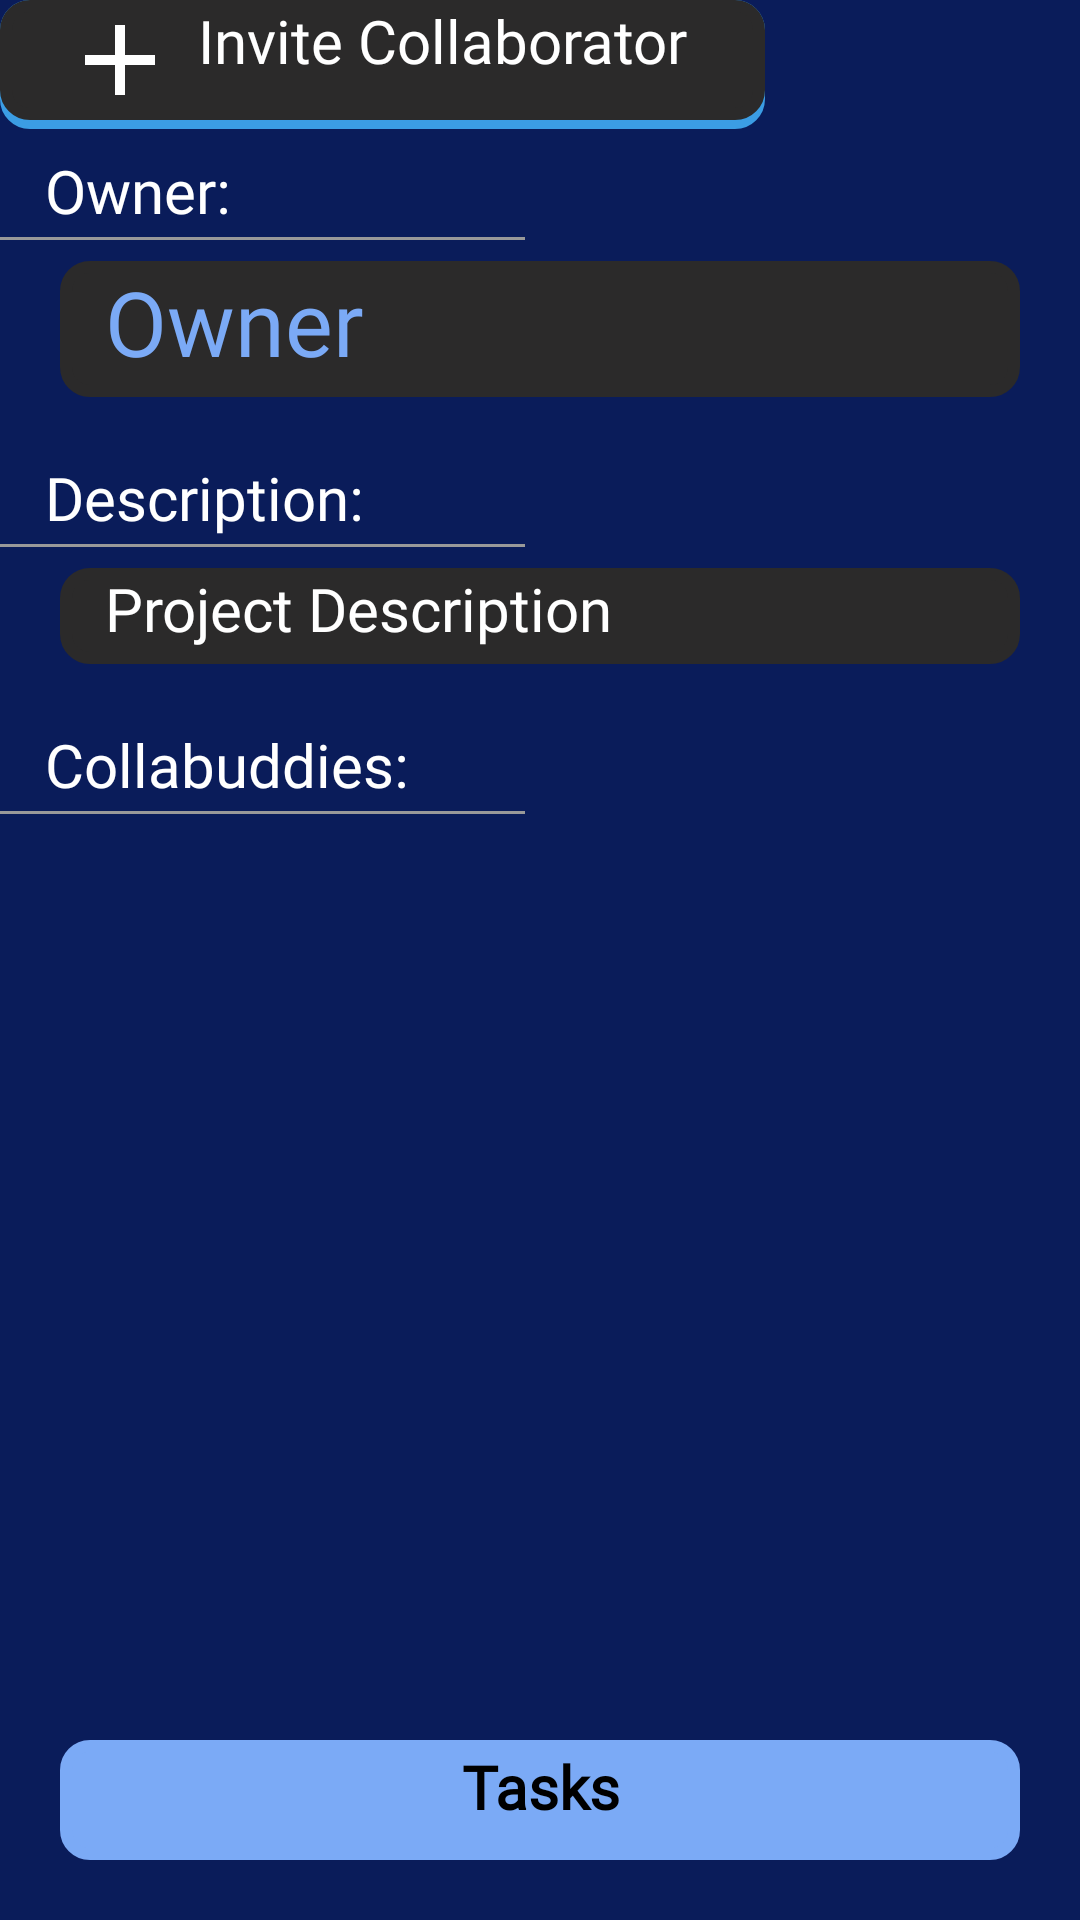

Icons on this 1080 x 1920 Android screen, each with the point to tap as [x,y]:
plus sign: [120,60]
